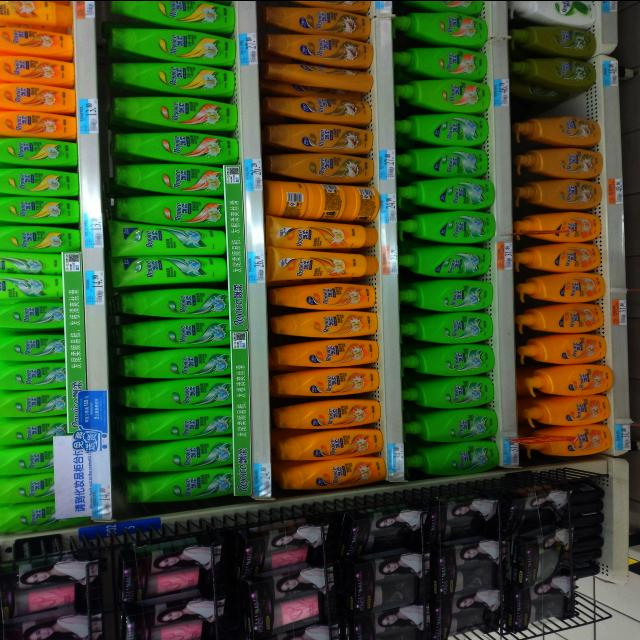empty_space: (513, 92, 597, 115)
